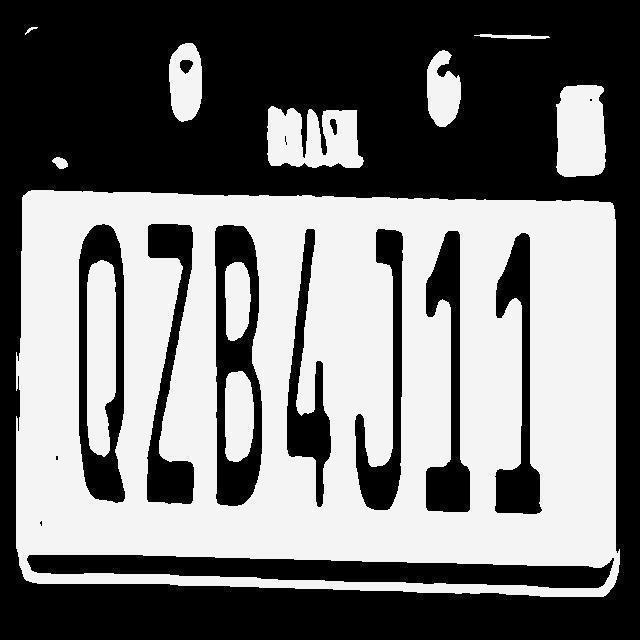1: (418, 222, 482, 516), (492, 225, 556, 518)
4: (280, 222, 345, 502)
b: (202, 221, 272, 502)
j: (356, 223, 418, 511)
q: (69, 221, 134, 509)
z: (140, 219, 205, 509)
